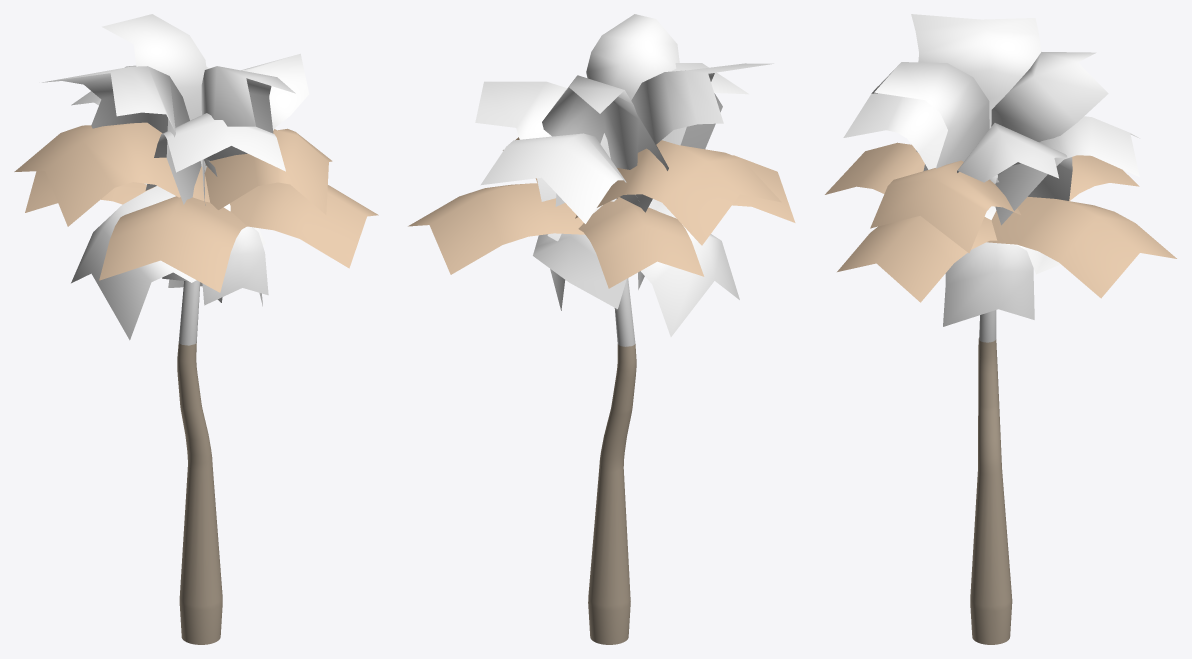
Rendered from palm_1_mesh.fbx.
3 renders of one model, left to right at view 1: azimuth 30°, elevation 25°; view 2: azimuth 150°, elevation 25°; view 3: azimuth 270°, elevation 25°, orthographic. The views are drawn at different scales.
Parts seen in each view (by area): view 1: Cylinder.000; view 2: Cylinder.000; view 3: Cylinder.000.
Boxes of the visible parts, box(x1,y1,x2,y2) form: Cylinder.000: box(14, 14, 378, 644); Cylinder.000: box(408, 14, 795, 644); Cylinder.000: box(825, 14, 1176, 644).
Bounding box in the file's own units: 212 × 398 × 222.
